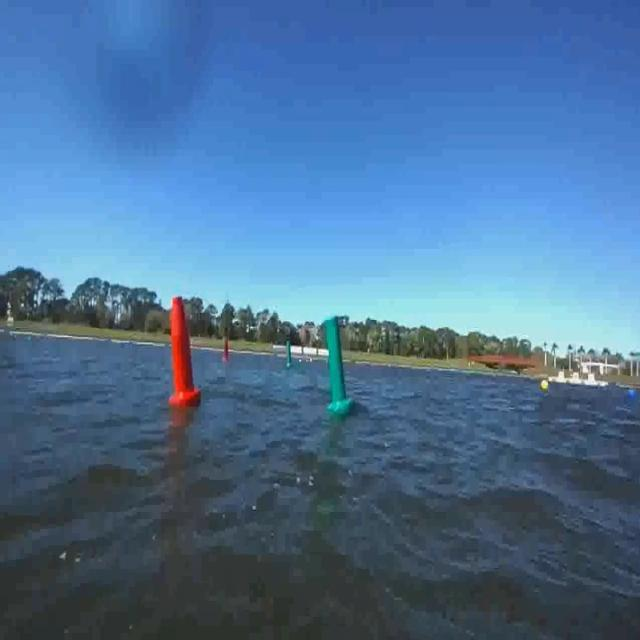blue-buoy: (628, 385, 638, 399)
green-column-buoy: (323, 316, 352, 416), (285, 341, 293, 367)
red-column-buoy: (168, 294, 200, 408), (223, 341, 230, 362)
yellow-buoy: (540, 378, 548, 393)
